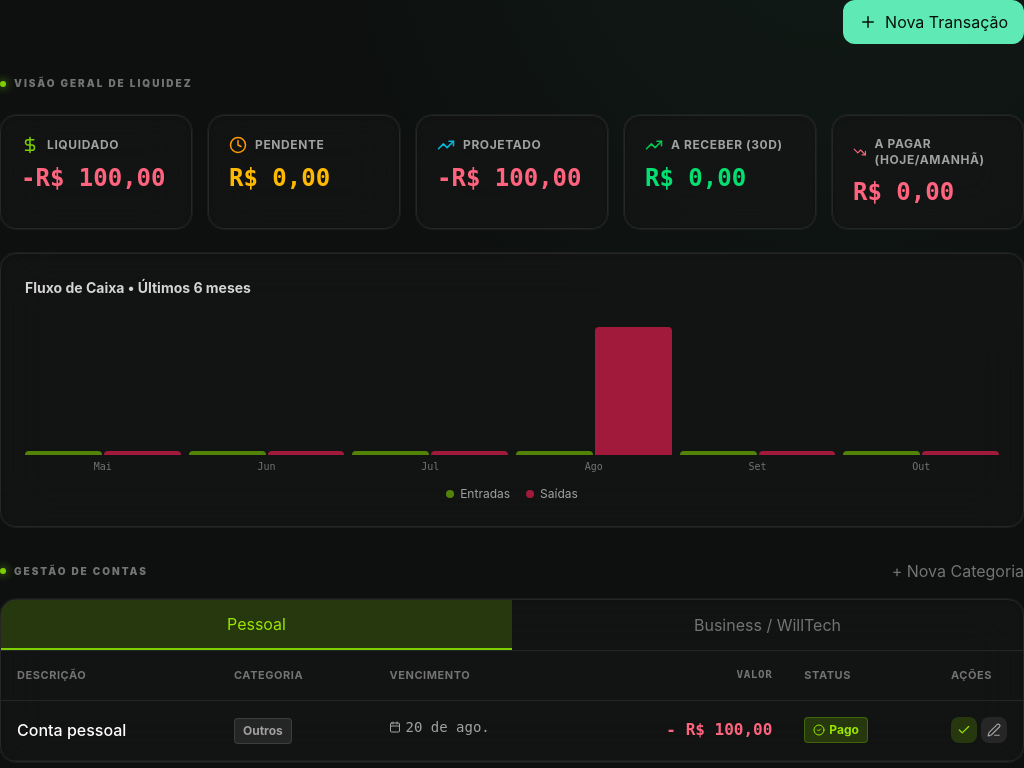
FinanceHub › disponibiliza categoria criada ao cadastrar transacao
This screenshot has width=1024, height=768.
Click the button "+ Nova Categoria".
click(958, 571)  # box [892,559,1023,583]
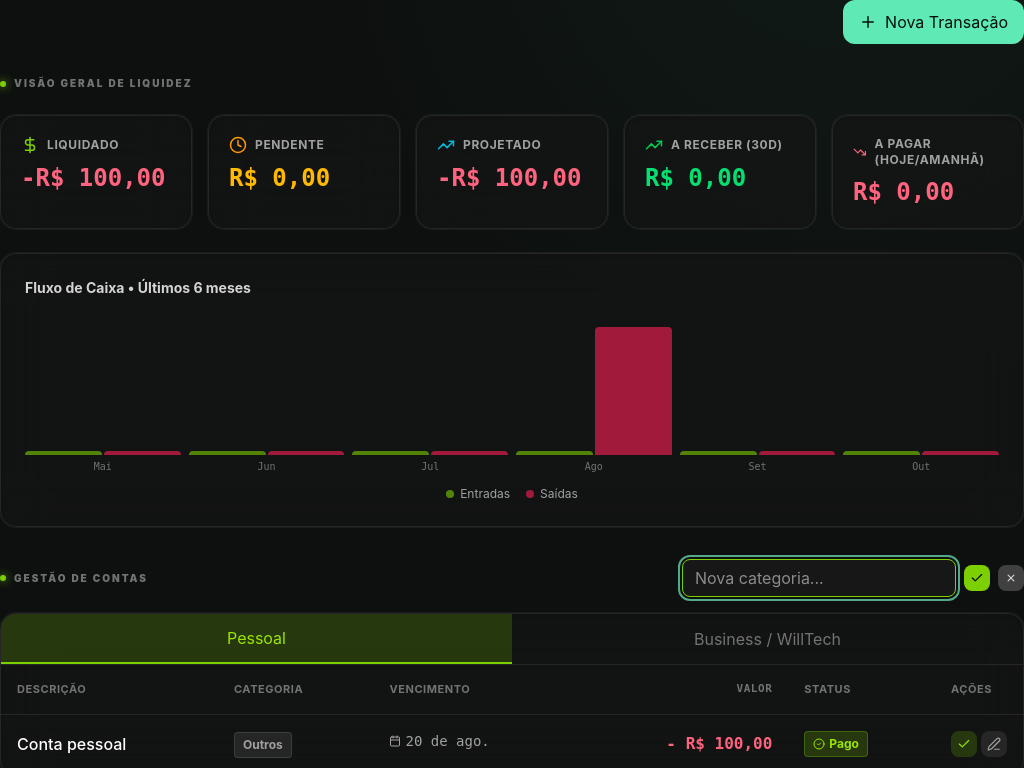
Type "Impostos" into the field with placeholder "Nova categoria...".
click(819, 578); type("Impostos")  # box [682,559,956,597]
Then press Enter
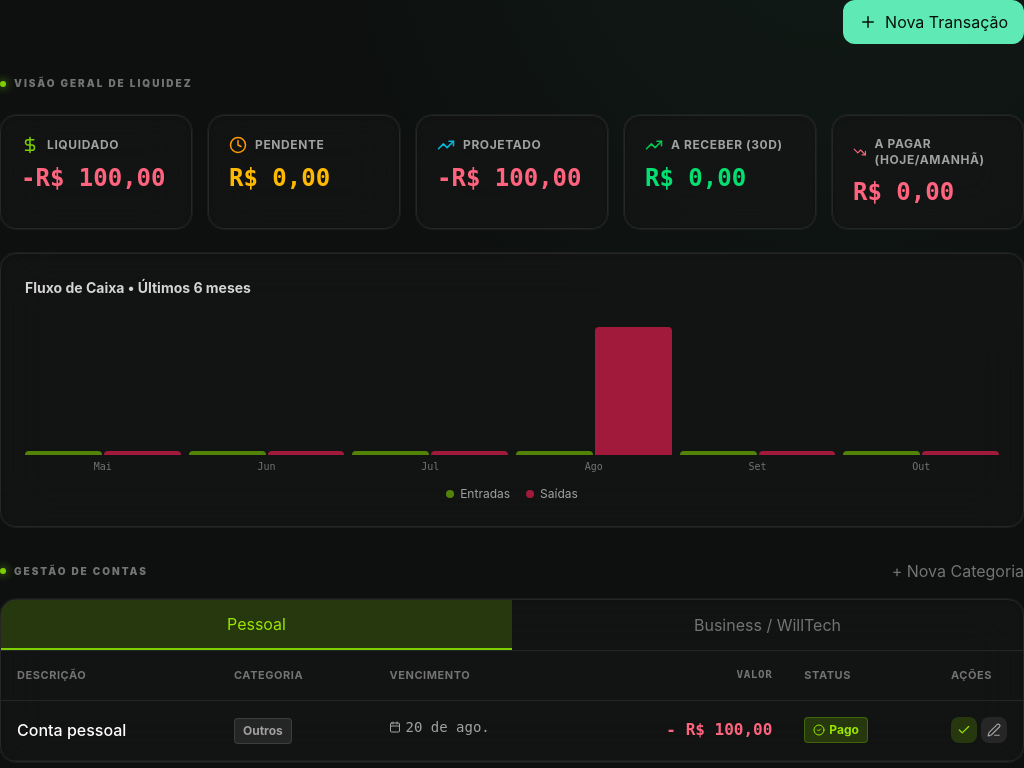
Click the button "Nova Transação".
click(934, 22)  # box [843,0,1023,44]
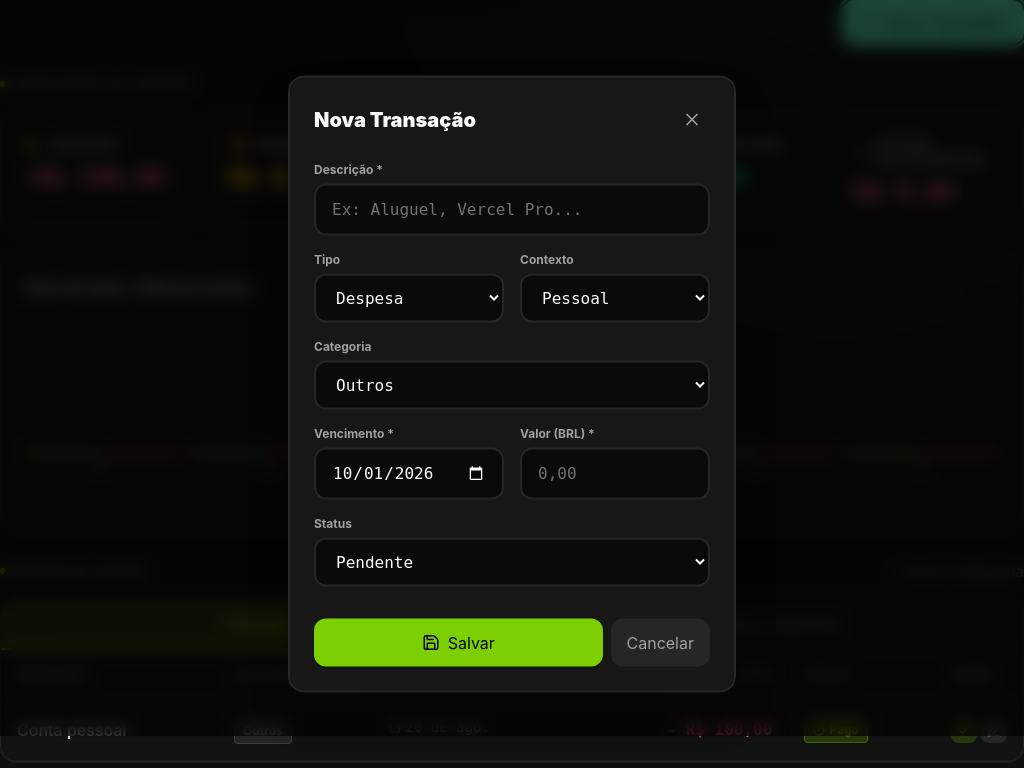
Type "DAS" into the field with placeholder "Ex: Aluguel, Vercel Pro...".
click(512, 210); type("DAS")  # box [314,184,710,236]
Select "Impostos" in the 3rd dropdown at (512, 385), box [314,360,710,410]
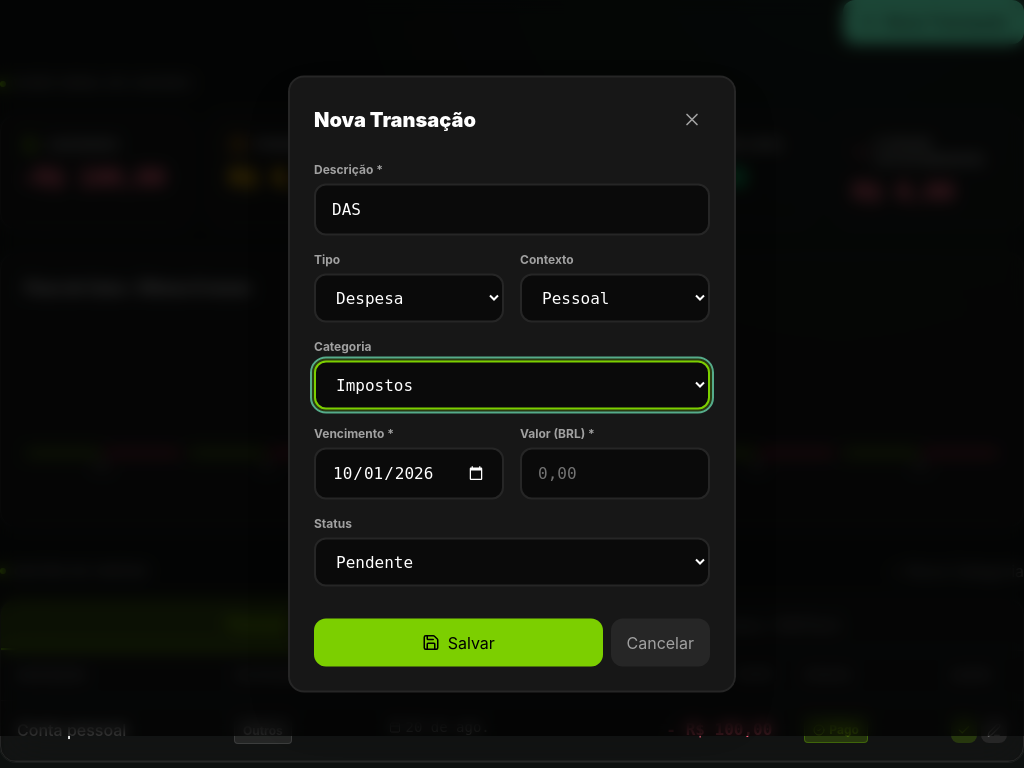
Type "150,00" into the field with placeholder "0,00".
click(615, 474); type("150,00")  # box [520,448,710,500]
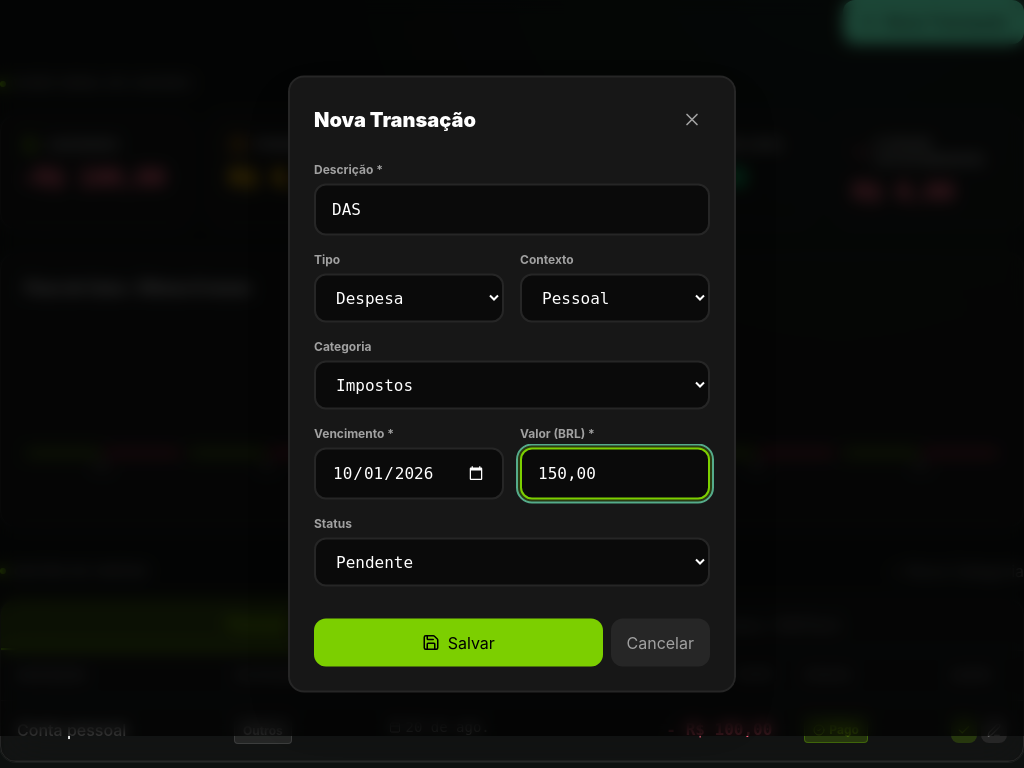
Click the button "Salvar".
click(458, 642)  # box [314,618,602,666]
(page scrolled)
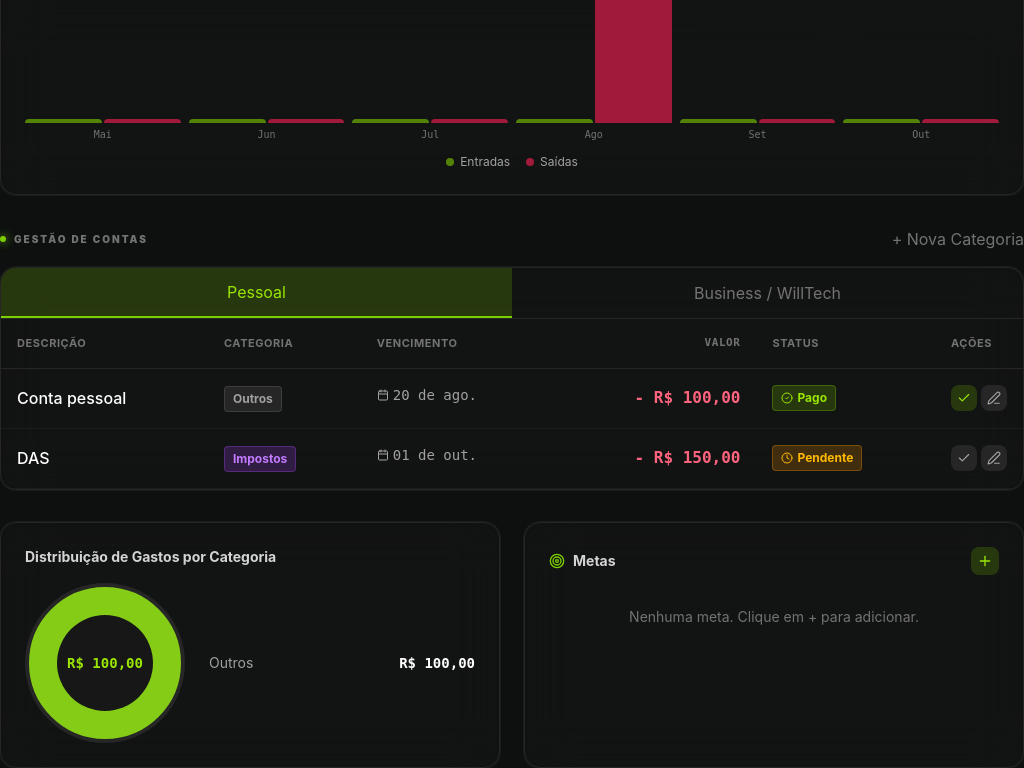
Check: the text "Impostos" is shown, box [224,446,296,472]
